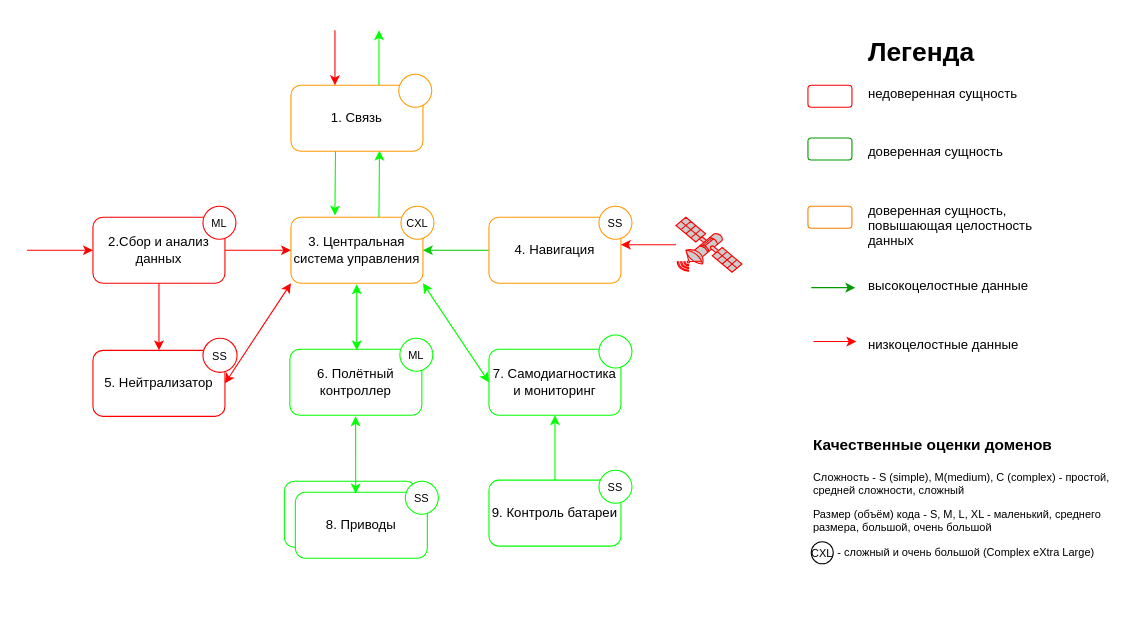
Image size: 1135x620. Some labels were removed from this diagram. Each missing label, with the centre of its shape:
CL: point 415,90
SM: point 615,351
